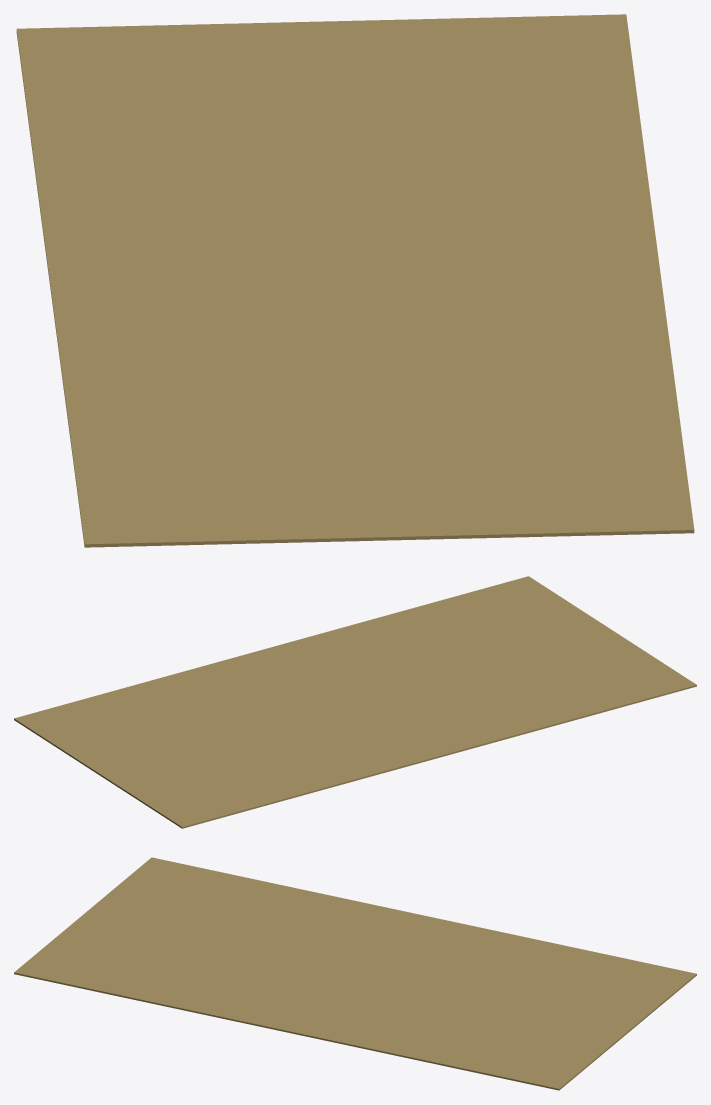
The model's file is covor.fbx.
3 renders of one model, top to bottom at view 1: azimuth 30°, elevation 25°; view 2: azimuth 150°, elevation 25°; view 3: azimuth 270°, elevation 25°, orthographic. The views are drawn at different scales.
Visible parts, largest first — view 1: Plane.014; view 2: Plane.014; view 3: Plane.014.
Boxes of the visible parts, box(x1,y1,x2,y2) form: Plane.014: box(16, 14, 694, 547); Plane.014: box(14, 576, 696, 828); Plane.014: box(14, 857, 696, 1090).
Bounding box in the file's own units: 359 × 1.2 × 447.
